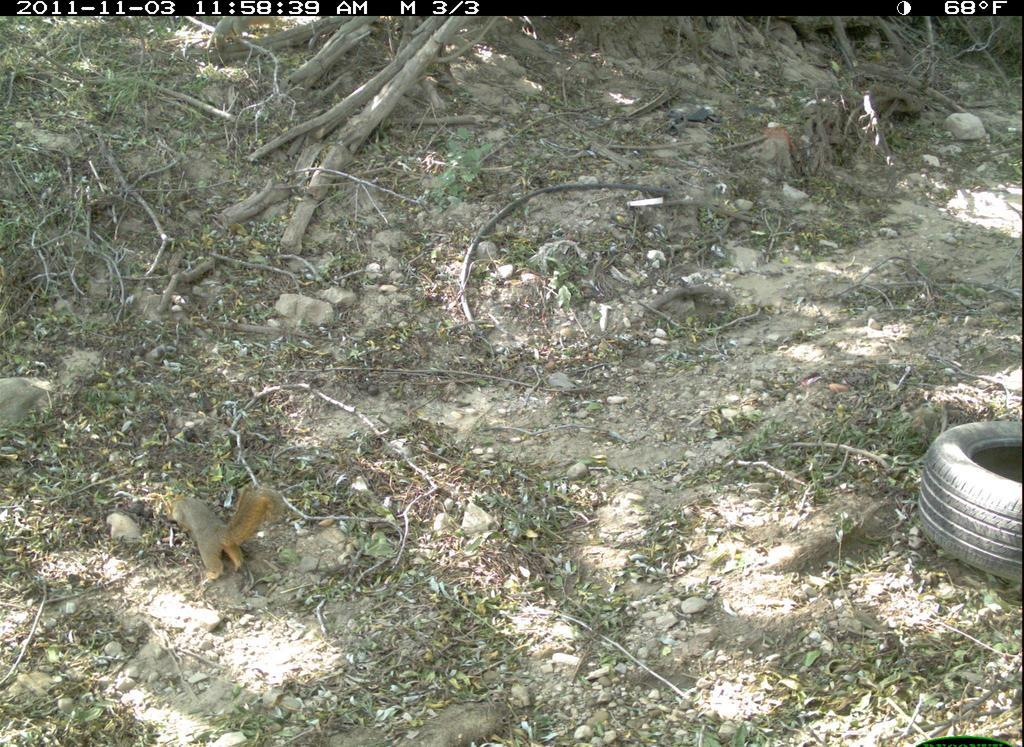squirrel: (157, 472, 289, 594)
